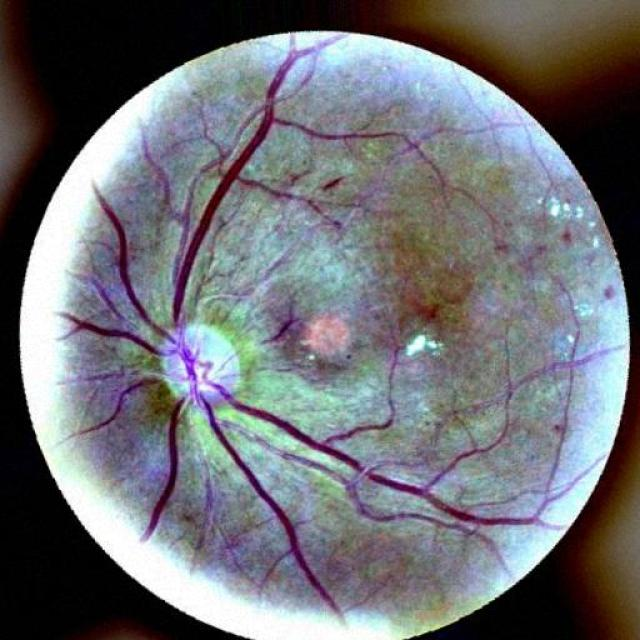Macula: (310, 291, 451, 356)
Nerves: (134, 48, 531, 626)
Optic Disk: (114, 298, 254, 439)
